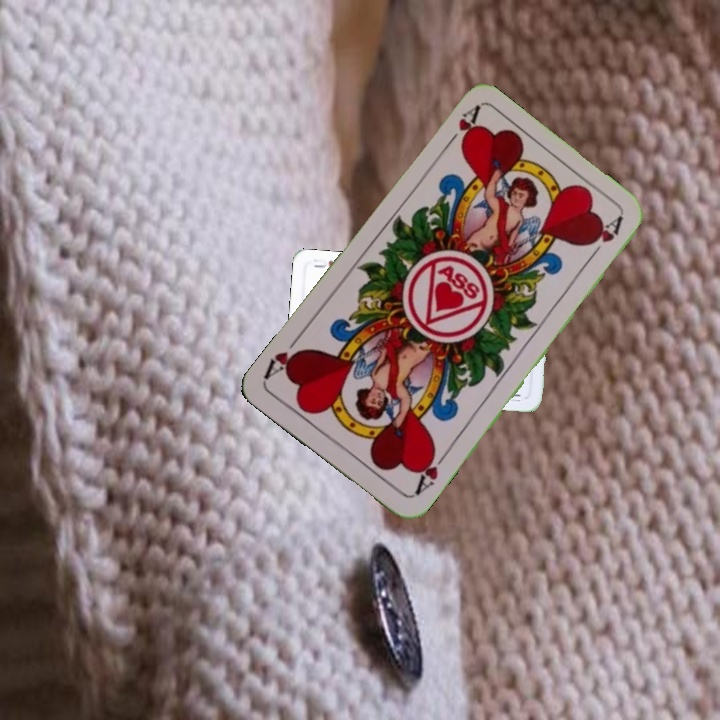HA: (410, 444, 451, 498), (439, 103, 482, 154)
